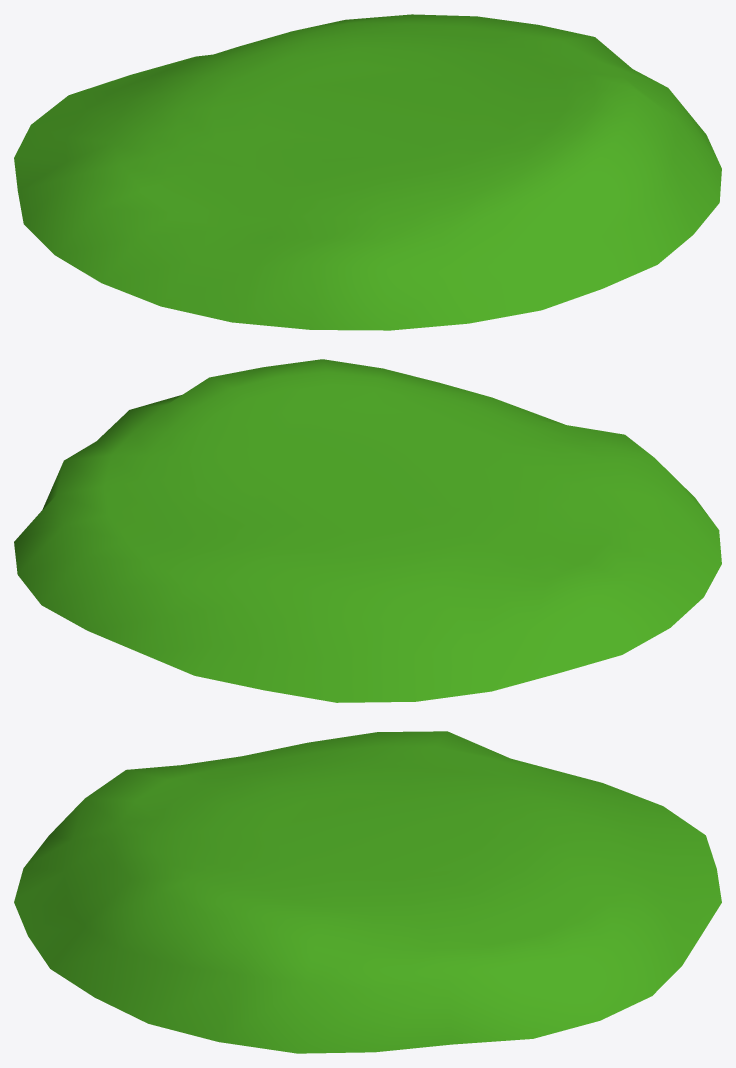
Rendered from GF_Hill_2.glb.
3 renders of one model, top to bottom at view 1: azimuth 30°, elevation 25°; view 2: azimuth 150°, elevation 25°; view 3: azimuth 270°, elevation 25°, orthographic. The views are drawn at different scales.
Visible parts, largest first — view 1: GF_Hill_2; view 2: GF_Hill_2; view 3: GF_Hill_2.
Boxes of the visible parts, <box> form: GF_Hill_2: <box>14,14,721,330</box>; GF_Hill_2: <box>14,359,721,702</box>; GF_Hill_2: <box>14,731,721,1053</box>.
Bounding box in the file's own units: 6.65 × 0.8844 × 6.52.
Materials: 1 (1 with a texture image).
